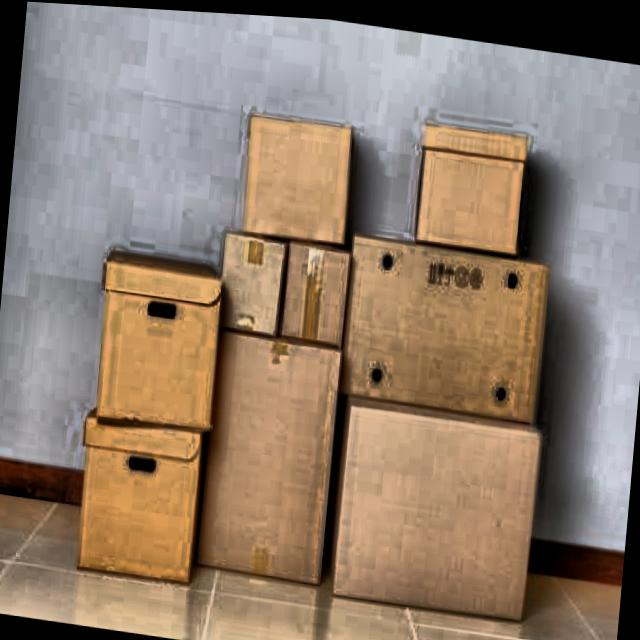Cardbox: (338, 100, 560, 434), (326, 381, 546, 632), (188, 319, 353, 609), (64, 393, 222, 600), (75, 232, 232, 440), (228, 86, 376, 248), (417, 116, 528, 250), (270, 215, 368, 353), (195, 224, 284, 338)
